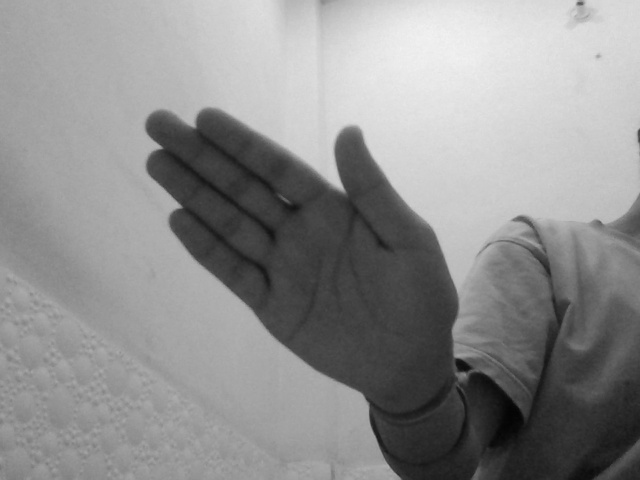Hello: (143, 104, 464, 401)
